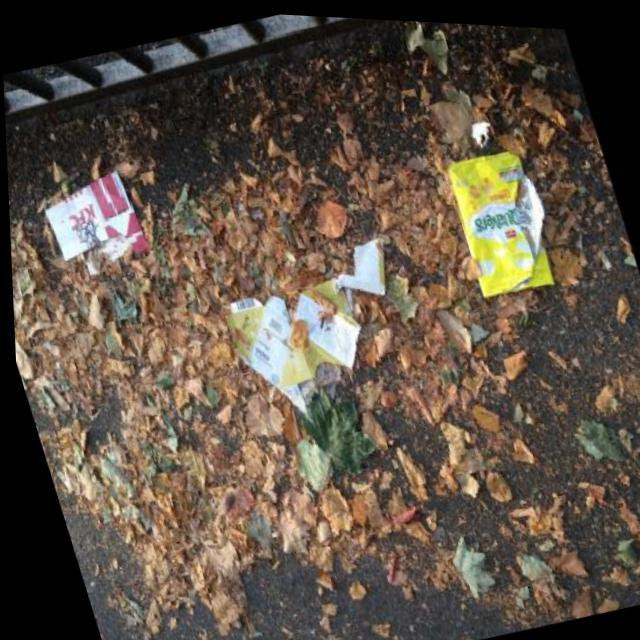cardboard: (211, 225, 435, 441), (37, 163, 156, 285)
plastic: (442, 139, 569, 304)
